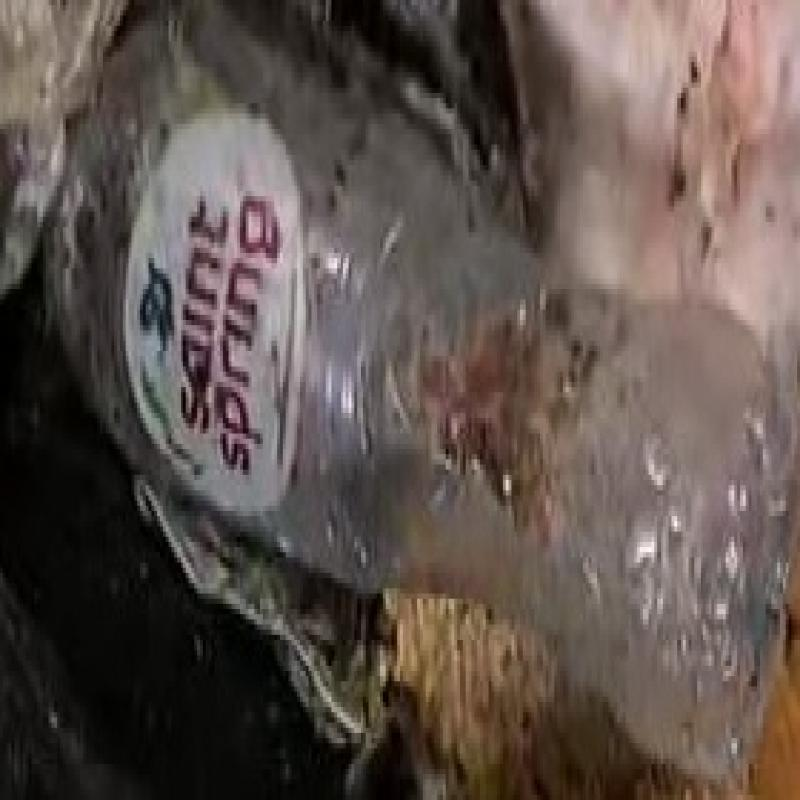botella: (37, 0, 793, 784)
